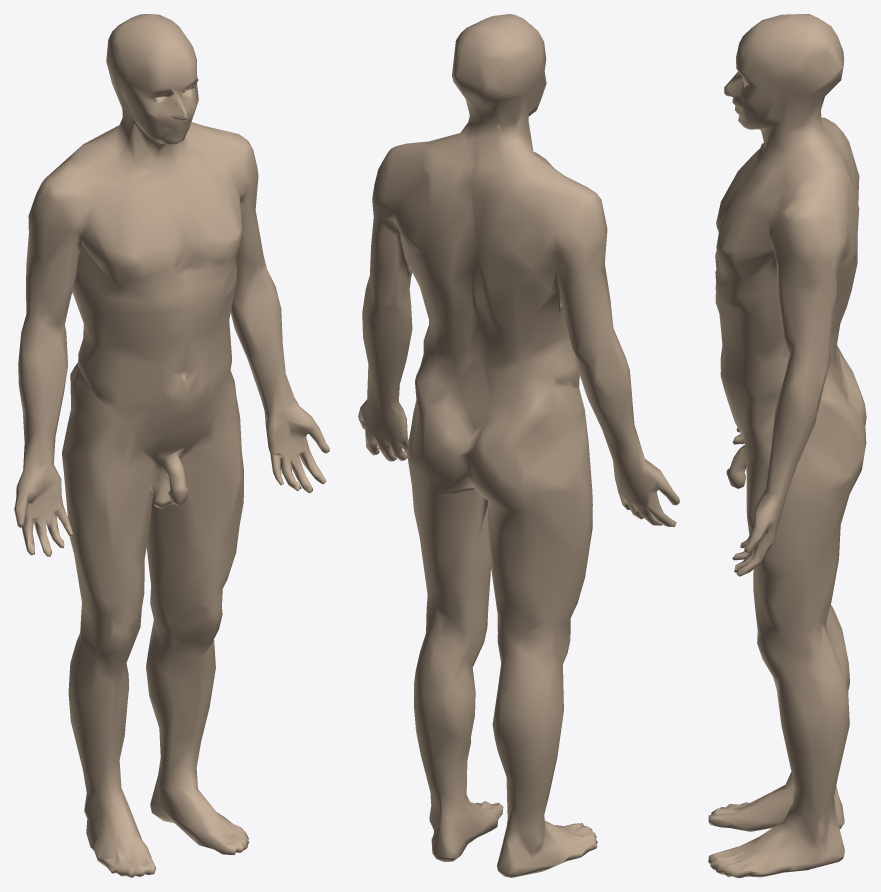
File: bodyparts3d.glb
The picture shows the model from 3 angles, left to right: view 1: azimuth 30°, elevation 25°; view 2: azimuth 150°, elevation 25°; view 3: azimuth 270°, elevation 25°; orthographic projection. The views are drawn at different scales.
Visible parts, largest first — view 1: FMA7163; view 2: FMA7163; view 3: FMA7163.
Boxes of the visible parts, left/top/right/bottom form: FMA7163: left=14, top=14, right=329, bottom=877; FMA7163: left=358, top=14, right=679, bottom=877; FMA7163: left=708, top=14, right=866, bottom=877.
Bounding box in the file's own units: 0.6579 × 1.66 × 0.2863.
